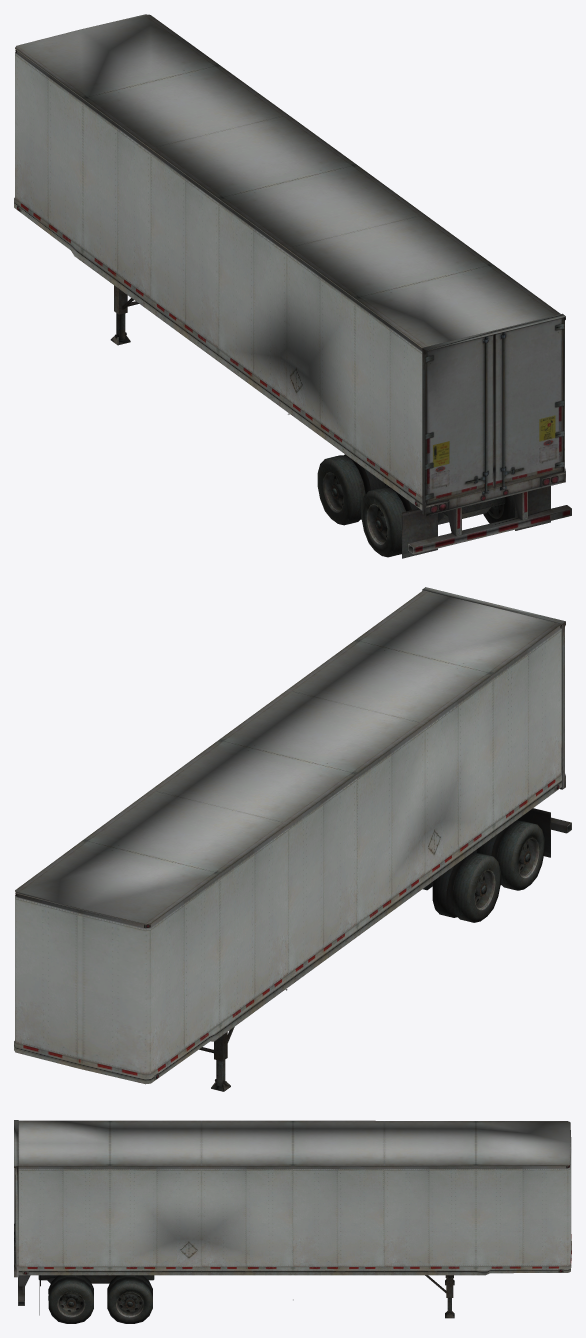
Rendered from Semi_trailer_freestanding.obj.
The picture shows the model from 3 angles, top to bottom: view 1: azimuth 30°, elevation 25°; view 2: azimuth 150°, elevation 25°; view 3: azimuth 270°, elevation 25°; orthographic projection. The views are drawn at different scales.
Visible parts, largest first — view 1: (null); view 2: (null); view 3: (null).
Boxes of the visible parts, bbox=[...] form: (null): bbox=[14, 14, 571, 558]; (null): bbox=[14, 587, 571, 1091]; (null): bbox=[14, 1120, 571, 1323].
Size of the model in its own units: 118 by 166 by 535.
1 material, 1 textured.
